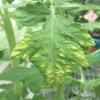Tomato leaf bacterial spot: (10, 11, 95, 93)
